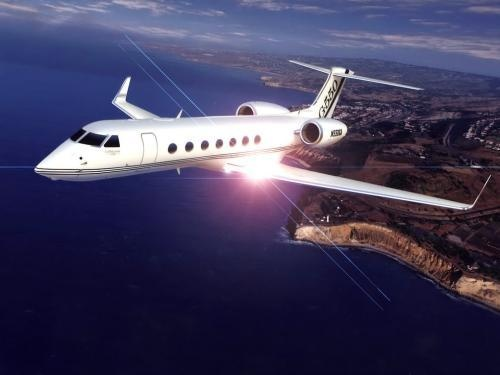airplane: (30, 58, 492, 212)
